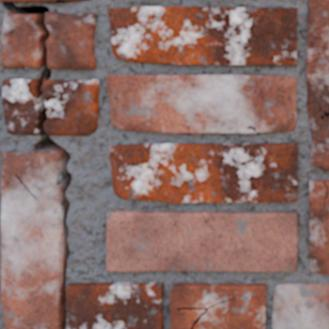brick: (107, 211, 296, 271), (109, 143, 297, 202), (107, 75, 295, 132), (109, 7, 296, 64), (2, 151, 60, 328), (67, 283, 162, 328), (171, 284, 265, 328), (307, 0, 328, 169), (273, 284, 328, 328), (310, 180, 328, 274), (5, 0, 54, 1)
broken_brick: (43, 79, 99, 136), (46, 11, 97, 69), (0, 11, 39, 68), (2, 78, 38, 135)
crack: (0, 0, 72, 328), (176, 296, 235, 328), (322, 180, 328, 210), (245, 124, 259, 133), (55, 0, 65, 2)
